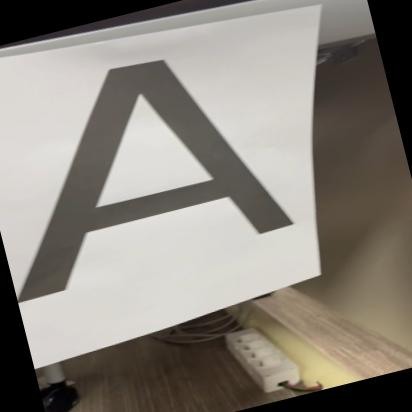seat: (0, 28, 297, 300)
